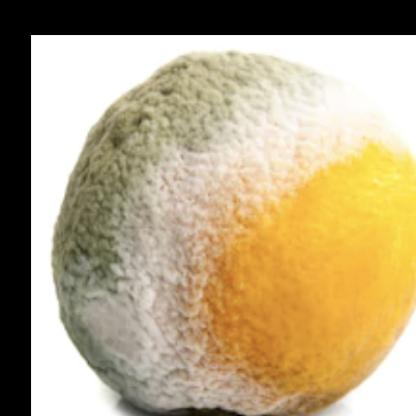rotten: (55, 54, 416, 416)
